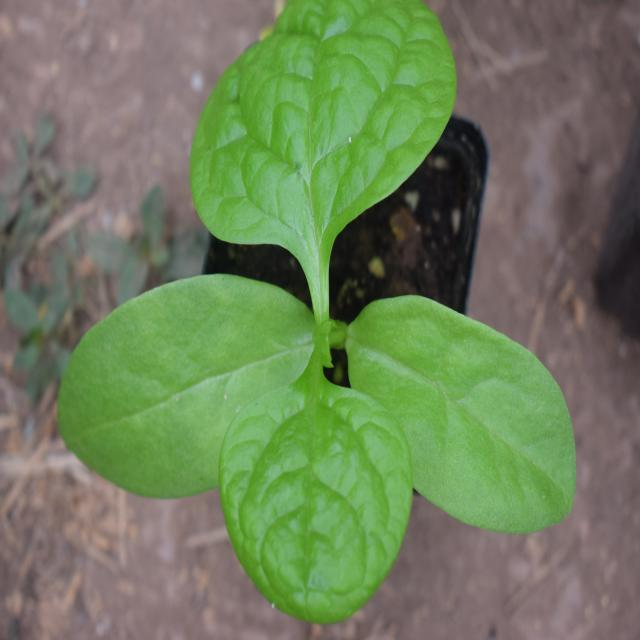Ceylon spinach: (58, 15, 584, 601)
